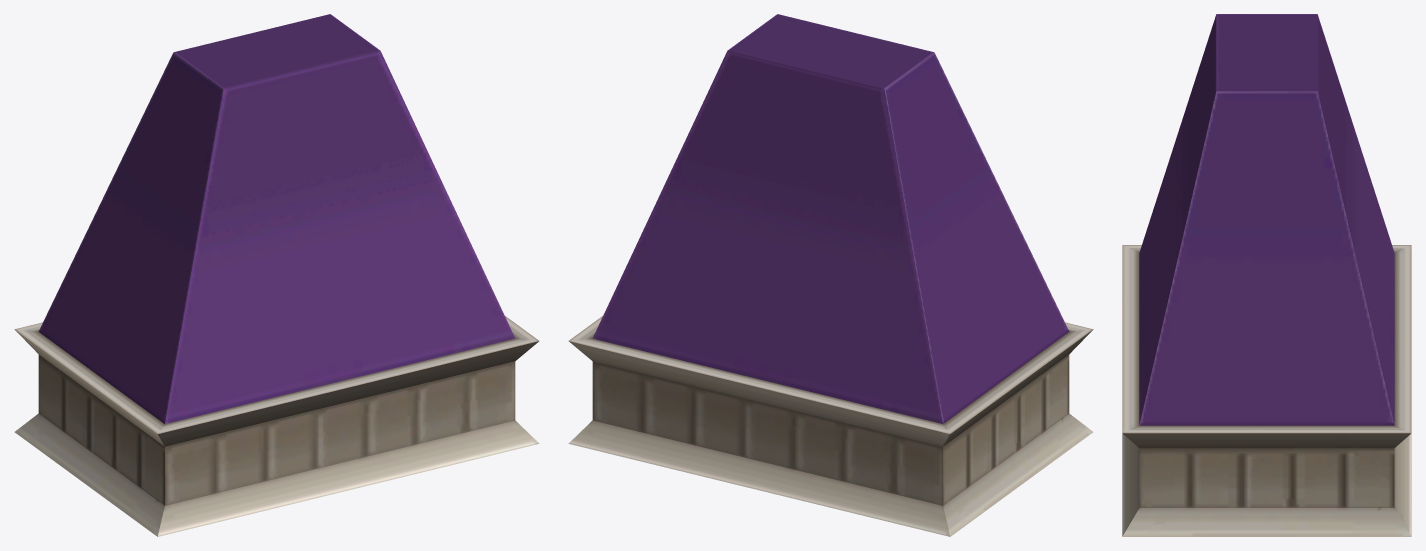
The model's file is furni_0200092_03.FBX.
3 renders of one model, left to right at view 1: azimuth 30°, elevation 25°; view 2: azimuth 150°, elevation 25°; view 3: azimuth 270°, elevation 25°, orthographic.
Parts seen in each view (by area): view 1: furni_0200092_03; view 2: furni_0200092_03; view 3: furni_0200092_03.
Part boxes in pixels (x1,y1,x2,y2): furni_0200092_03: (14,14,539,536); furni_0200092_03: (568,14,1093,536); furni_0200092_03: (1122,14,1411,536).
Size of the model in its own units: 80.17 by 77.5 by 52.11.
1 material, 1 textured.
